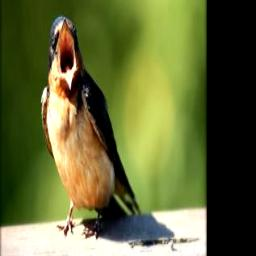Swallow: (40, 13, 142, 239)
